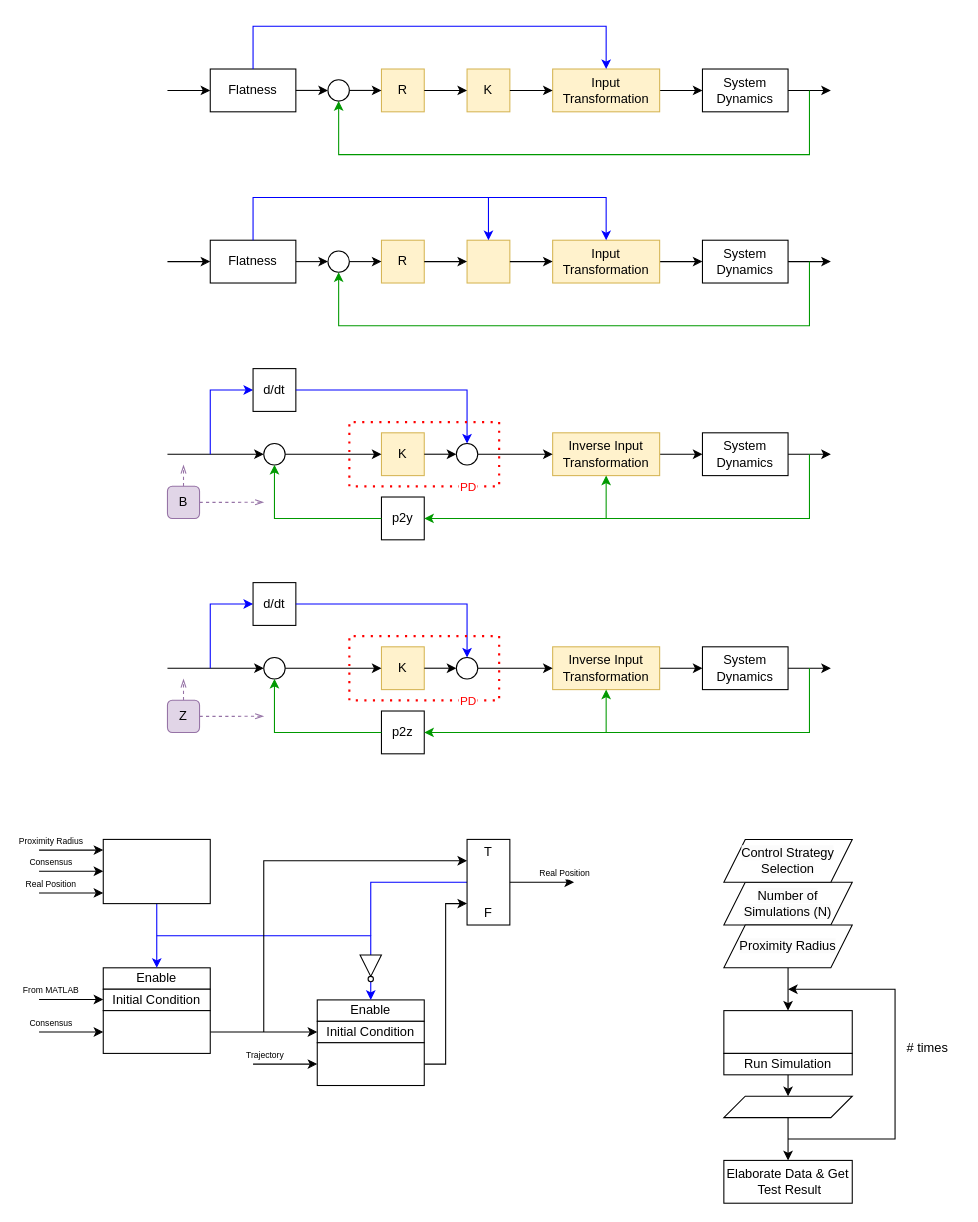
Image size: 978x1222. Some labels were removed from this diagram. Here are the shapes that lost their labels. From the top down, the centre of each, then its label:
At [488,261]: "NL K".
At [156,1031]: "Posture Regulation".
At [787,1031]: "Generate Random Initial Conditions".
At [370,1064]: "Trajectory Tracking".
At [787,1106]: "Log Data".
